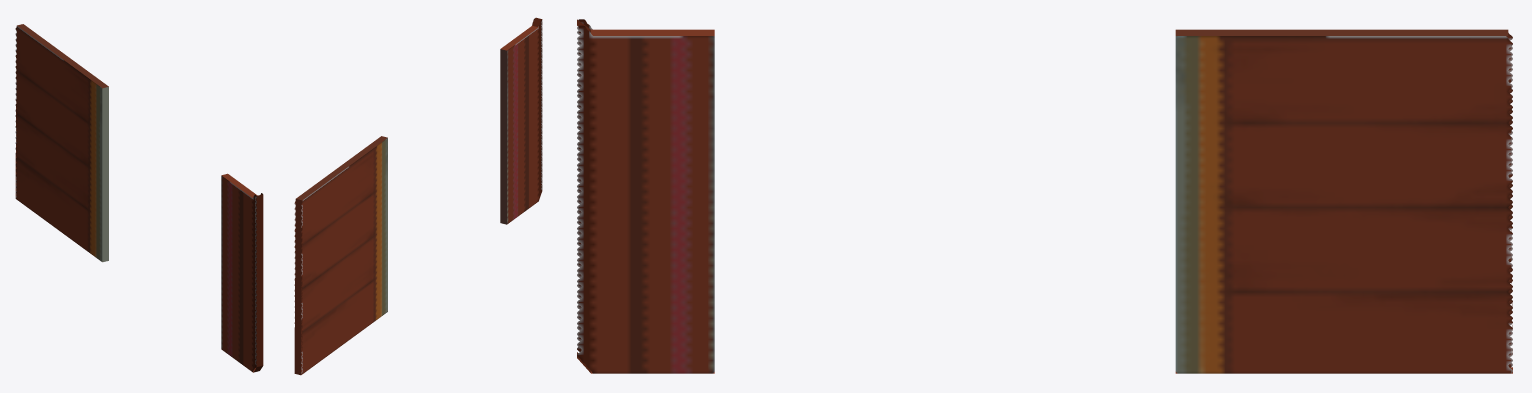
File: pz_native_location_restaurant_spiffos_01_4_frame.obj
The picture shows the model from 3 angles, left to right: view 1: azimuth 30°, elevation 25°; view 2: azimuth 150°, elevation 25°; view 3: azimuth 270°, elevation 25°; orthographic projection. The views are drawn at different scales.
Parts seen in each view (by area): view 1: pz_native_location_restaurant_spiffos_01_4_frame; view 2: pz_native_location_restaurant_spiffos_01_4_frame; view 3: pz_native_location_restaurant_spiffos_01_4_frame.
Boxes of the visible parts, x1,y1,x2,y2 form: pz_native_location_restaurant_spiffos_01_4_frame: [15, 24, 263, 372]; pz_native_location_restaurant_spiffos_01_4_frame: [294, 17, 542, 375]; pz_native_location_restaurant_spiffos_01_4_frame: [577, 19, 1512, 373].
Bounding box in the file's own units: 0.04 × 1.06 × 2.54.
Materials: 1 (1 with a texture image).
